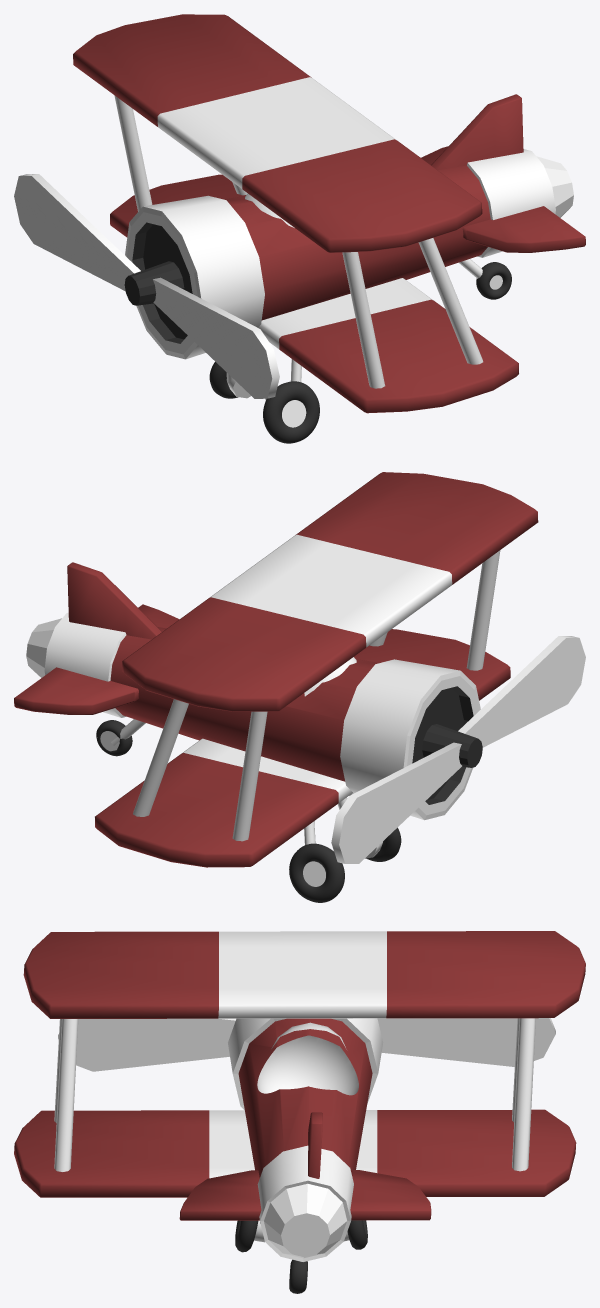
Rendered from airplane.glb.
3 renders of one model, top to bottom at view 1: azimuth 30°, elevation 25°; view 2: azimuth 150°, elevation 25°; view 3: azimuth 270°, elevation 25°, orthographic. The views are drawn at different scales.
Parts seen in each view (by area): view 1: Helicopter, BladeRotor; view 2: Helicopter, BladeRotor; view 3: Helicopter, BladeRotor.
Part boxes in pixels (box(x1,y1,x2,y2)): Helicopter: box(73, 14, 585, 443); BladeRotor: box(14, 174, 279, 398); Helicopter: box(14, 472, 538, 902); BladeRotor: box(331, 636, 585, 863); Helicopter: box(14, 931, 585, 1293); BladeRotor: box(58, 1018, 555, 1071).
Size of the model in its own units: 2.02 by 1.31 by 2.35.
